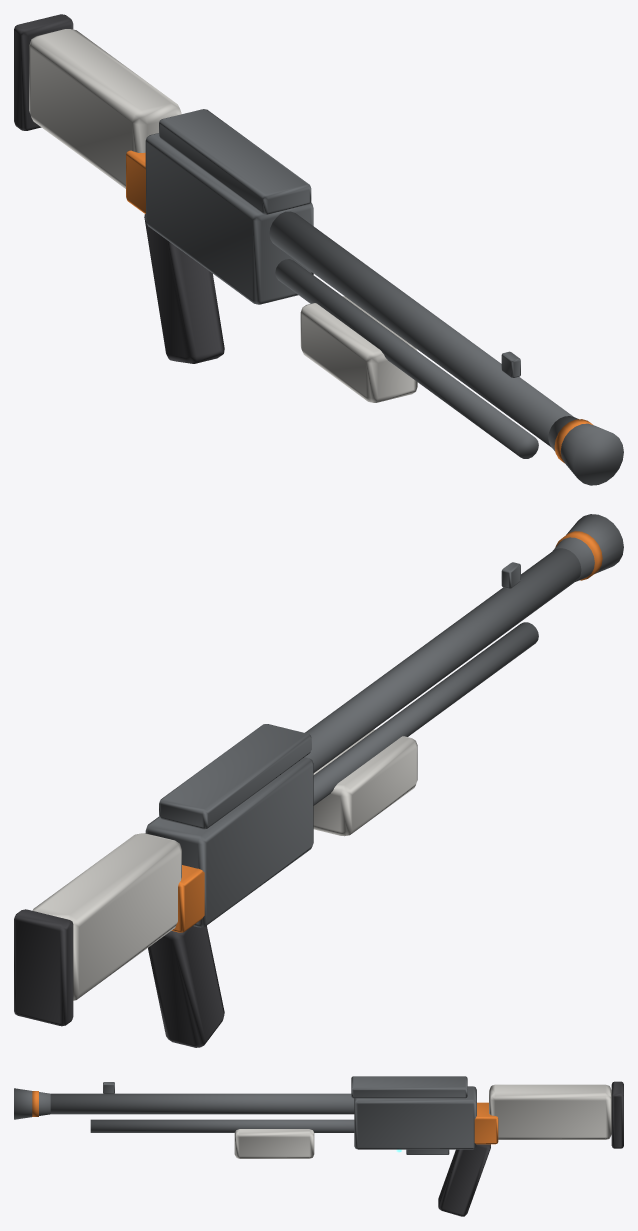
The model's file is shotgun.glb.
3 renders of one model, top to bottom at view 1: azimuth 30°, elevation 25°; view 2: azimuth 150°, elevation 25°; view 3: azimuth 270°, elevation 25°, orthographic. The views are drawn at different scales.
Visible parts, largest first — view 1: sg_stock, sg_barrel, sg_receiver, sg_receiver_top, sg_tube, sg_grip, sg_forend, sg_muzzle_bell, sg_stock_pad, sg_shell_band; view 2: sg_stock, sg_barrel, sg_receiver, sg_receiver_top, sg_grip, sg_tube, sg_stock_pad, sg_forend, sg_muzzle_bell, sg_shell_band; view 3: sg_barrel, sg_stock, sg_receiver, sg_tube, sg_receiver_top, sg_forend, sg_grip, sg_shell_band, sg_stock_pad, sg_muzzle_bell, sg_trigger_guard.
Boxes of the visible parts, left/top/right/bottom form: sg_stock: left=29, top=29, right=181, bottom=188; sg_barrel: left=269, top=211, right=573, bottom=447; sg_receiver: left=145, top=133, right=313, bottom=304; sg_receiver_top: left=159, top=109, right=311, bottom=214; sg_tube: left=275, top=259, right=538, bottom=458; sg_grip: left=144, top=214, right=224, bottom=363; sg_forend: left=300, top=296, right=417, bottom=402; sg_muzzle_bell: left=548, top=416, right=623, bottom=485; sg_stock_pad: left=14, top=14, right=73, bottom=130; sg_shell_band: left=126, top=150, right=145, bottom=213; sg_stock: left=32, top=833, right=181, bottom=1000; sg_barrel: left=305, top=548, right=581, bottom=772; sg_receiver: left=145, top=757, right=313, bottom=927; sg_receiver_top: left=159, top=724, right=311, bottom=829; sg_grip: left=148, top=925, right=224, bottom=1047; sg_tube: left=313, top=622, right=538, bottom=805; sg_stock_pad: left=14, top=909, right=73, bottom=1026; sg_forend: left=313, top=729, right=417, bottom=836; sg_muzzle_bell: left=553, top=514, right=623, bottom=581; sg_shell_band: left=171, top=865, right=204, bottom=932; sg_barrel: left=50, top=1093, right=354, bottom=1114; sg_stock: left=489, top=1084, right=611, bottom=1139; sg_receiver: left=354, top=1086, right=476, bottom=1149; sg_tube: left=90, top=1119, right=354, bottom=1132; sg_receiver_top: left=351, top=1076, right=467, bottom=1098; sg_forend: left=234, top=1129, right=314, bottom=1158; sg_grip: left=438, top=1144, right=490, bottom=1216; sg_shell_band: left=474, top=1102, right=498, bottom=1144; sg_stock_pad: left=611, top=1081, right=623, bottom=1148; sg_muzzle_bell: left=14, top=1088, right=50, bottom=1119; sg_trigger_guard: left=406, top=1149, right=449, bottom=1154.
Bounding box in the file's own units: 0.062 × 0.2368 × 0.995.
